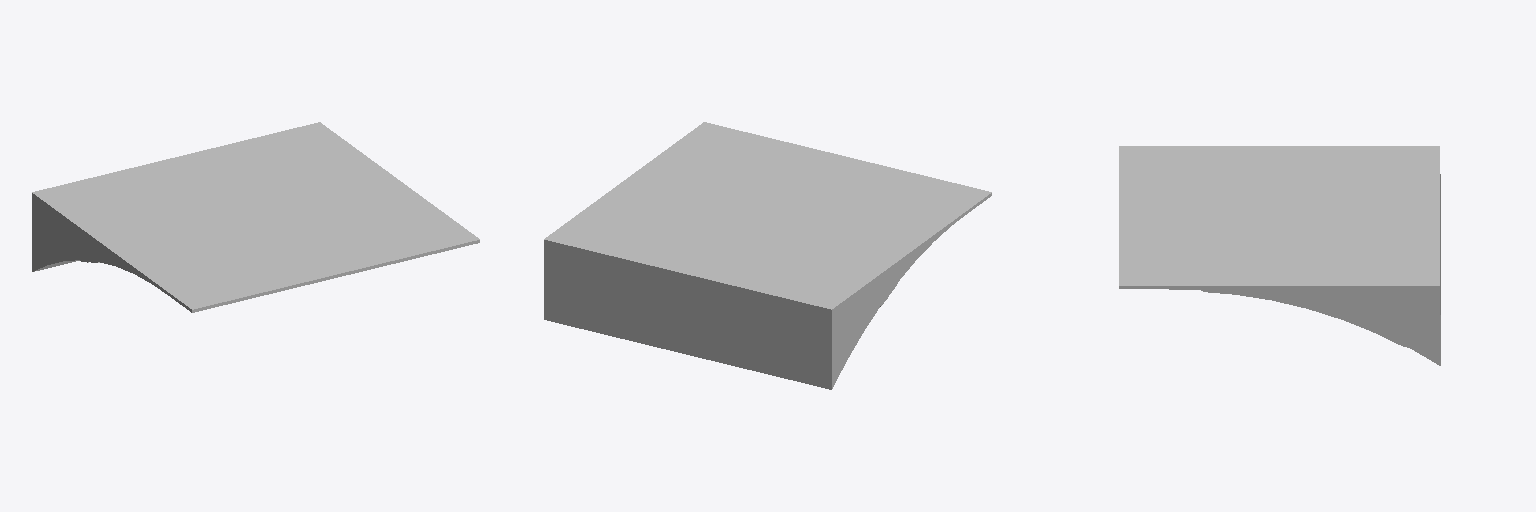
Rendered from orelsan_mur.obj.
3 views of the same model, side by side, from view 1: azimuth 30°, elevation 25°; view 2: azimuth 150°, elevation 25°; view 3: azimuth 270°, elevation 25° (orthographic).
Parts seen in each view (by area): view 1: orelsan_mur.obj; view 2: orelsan_mur.obj; view 3: orelsan_mur.obj.
Part boxes in pixels (bbox=[...]): orelsan_mur.obj: bbox=[32, 122, 479, 312]; orelsan_mur.obj: bbox=[544, 122, 991, 389]; orelsan_mur.obj: bbox=[1119, 146, 1440, 365].
Size of the model in its own units: 500 by 133 by 483.